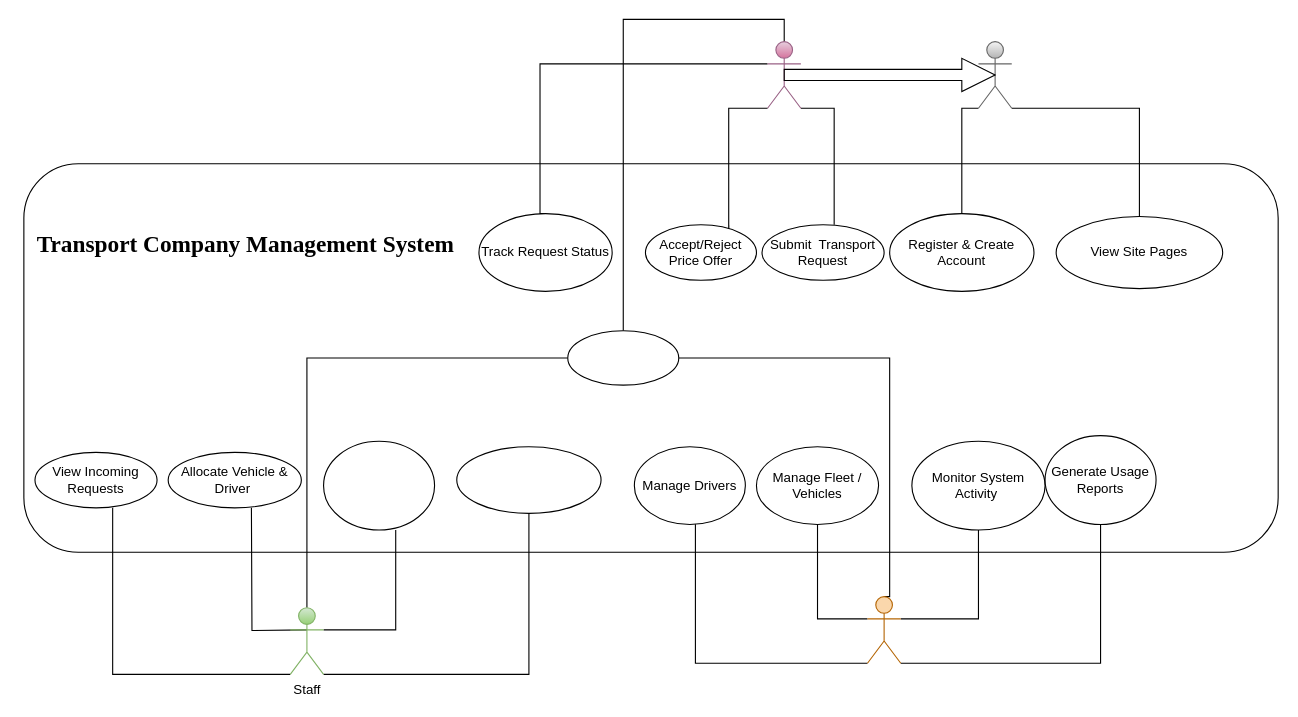
The diagram is 1298 pixels wide and 717 high, and some of its shapes have lost their labels. The shapes that lost their labels are listed below. From the top down, each one's centre as x and y in pixels, then its label:
At pixel 783 74: "Customer".
At pixel 994 74: "Guest".
At pixel 623 357: "Login".
At pixel 378 485: "Update Job Status".
At pixel 528 479: "Generate Price Offer".
At pixel 883 629: "Administrator".
